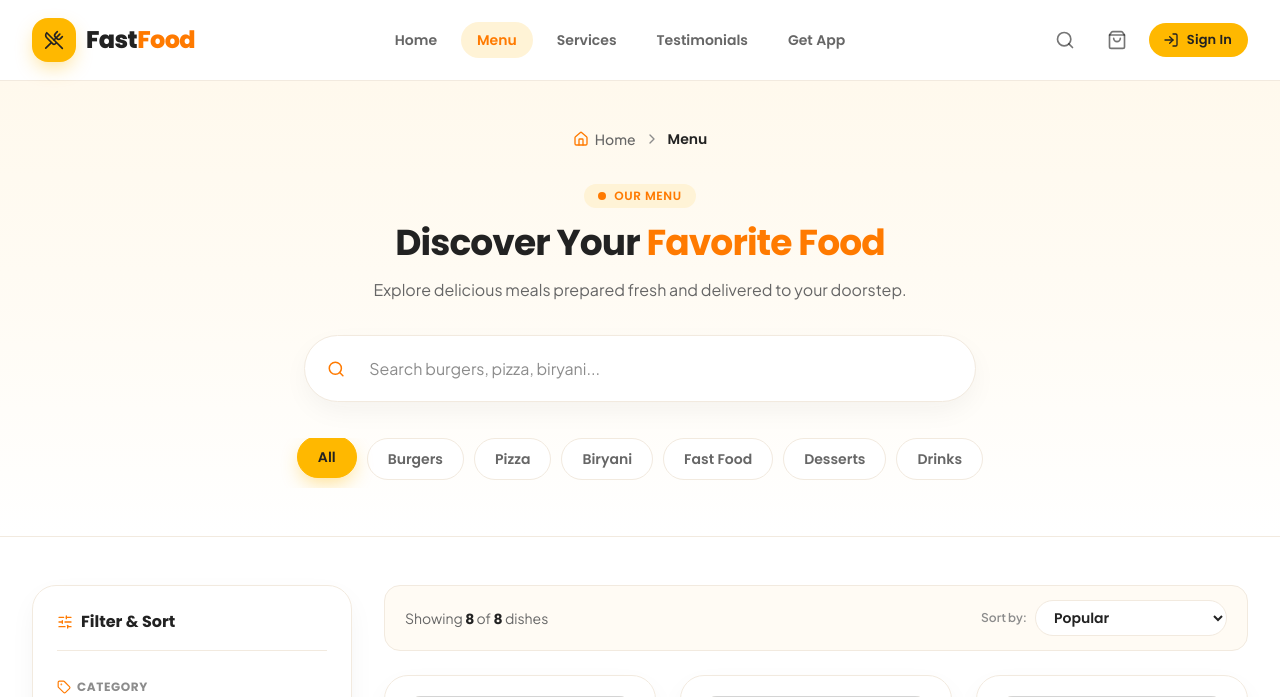
Integration: Menu Search, Filtering & Category Selection › filters dishes by category tab selection and preserves typed search query across tab changes
This screenshot has width=1280, height=697.
Later steps or results of the test are not shown.
What coordinates should you click on to do the following:
click the tab "Pizza"
I would click on:
 (513, 459)
Its box is [474,438,551,480].
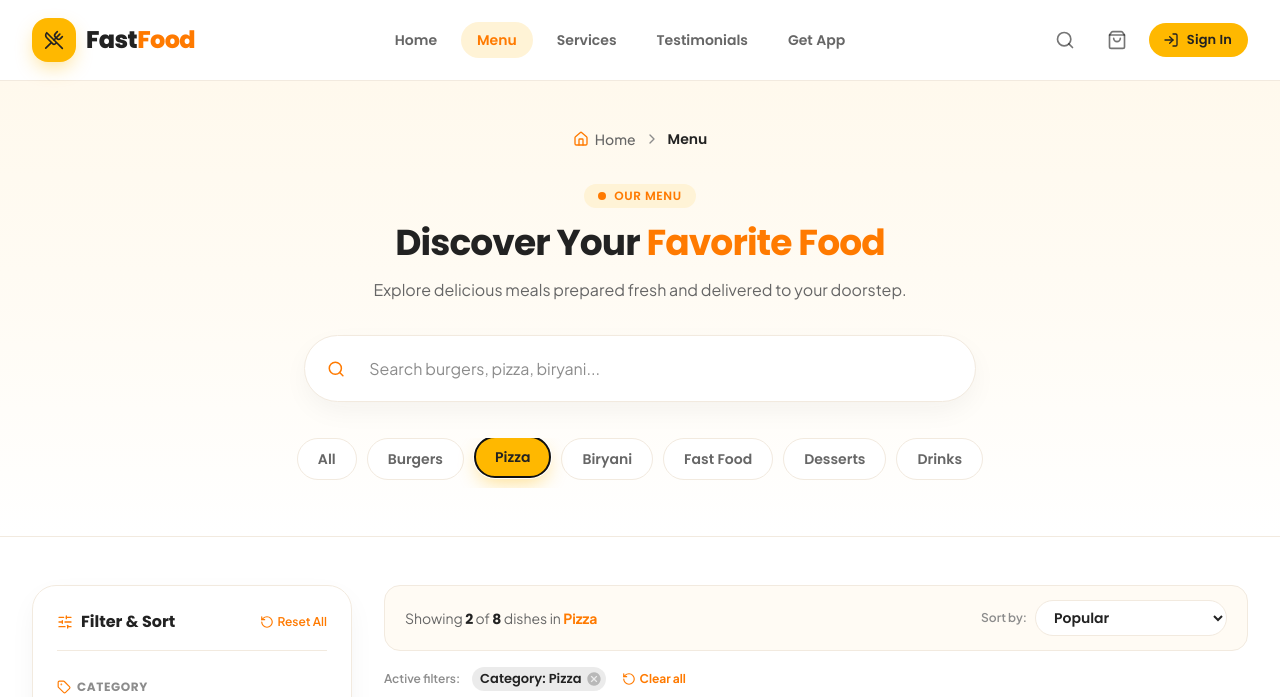
Now the tab "Pizza" is selected, box [474,438,551,478]
